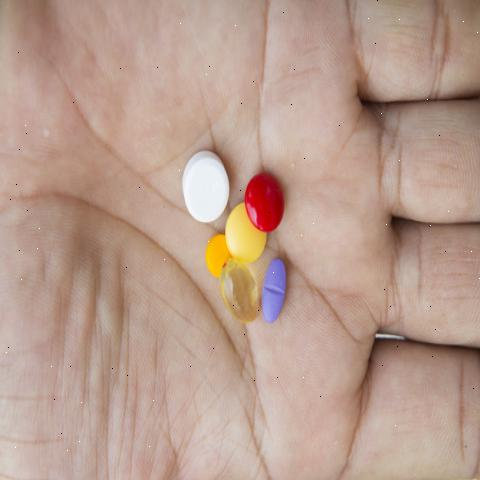Pill: (170, 138, 242, 238)
